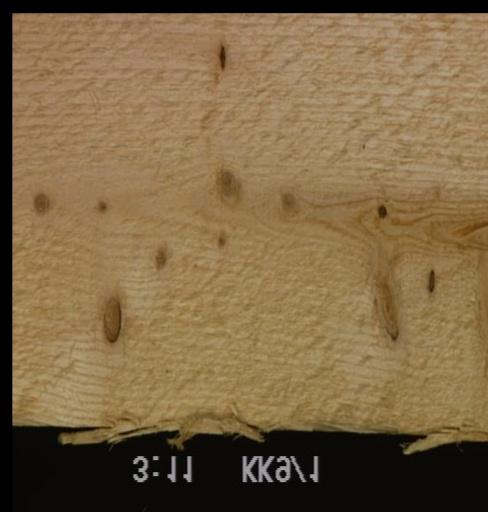dry_knot: (100, 295, 120, 343), (216, 43, 225, 72)
small_knot: (152, 239, 168, 271), (93, 196, 110, 218), (375, 203, 387, 219)
sound_knot: (212, 169, 242, 205), (279, 190, 295, 214), (31, 191, 46, 213), (216, 228, 230, 249)
